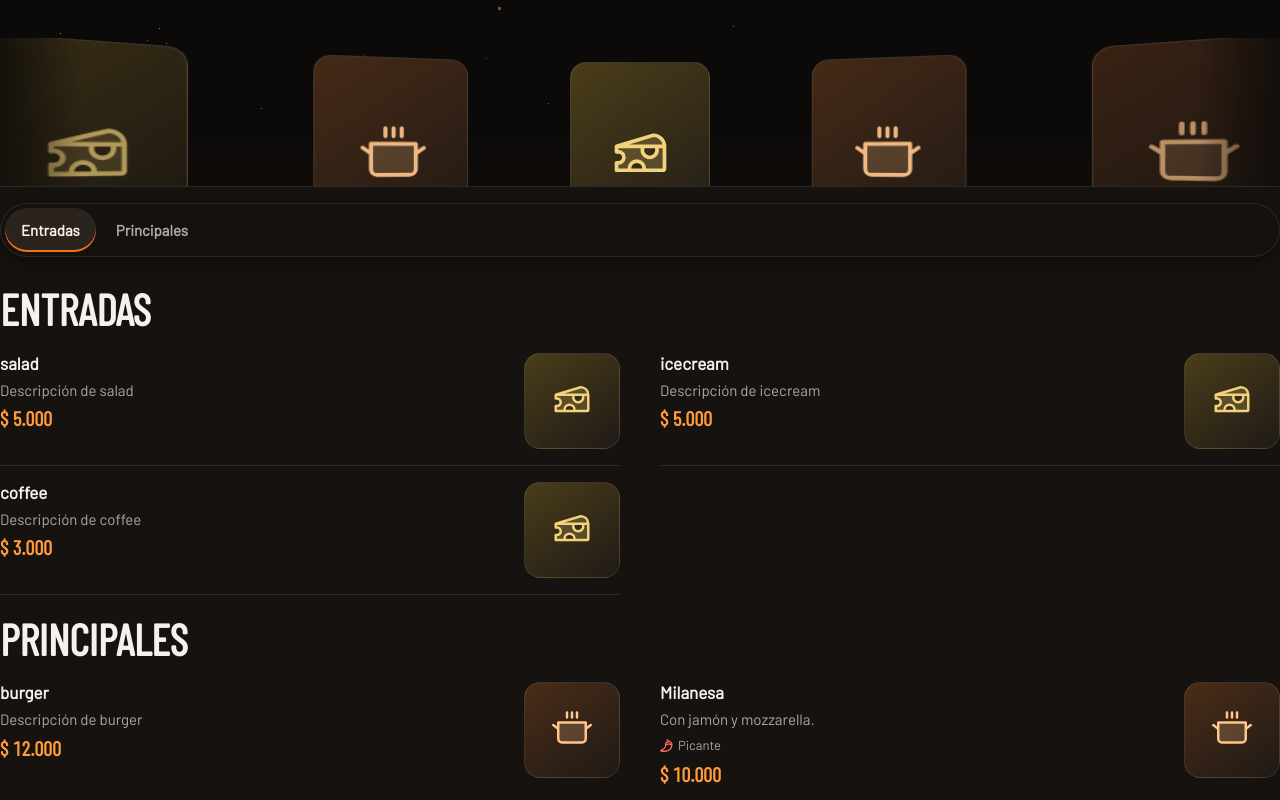
Test: DishSheet: ficha del plato (RF2, RF6, RF14-RF20, RF34, RF43) › abrir y cerrar (RF14, RF43) › cierra sin agregar nada con el botón Cerrar, y el pedido queda vacío
(page scrolled)
Expected: the navigation bar is shown, [0,203,1279,257]
Click the button "salad Descripción de salad $ 5.000" at (19, 363), box [0,337,620,465]
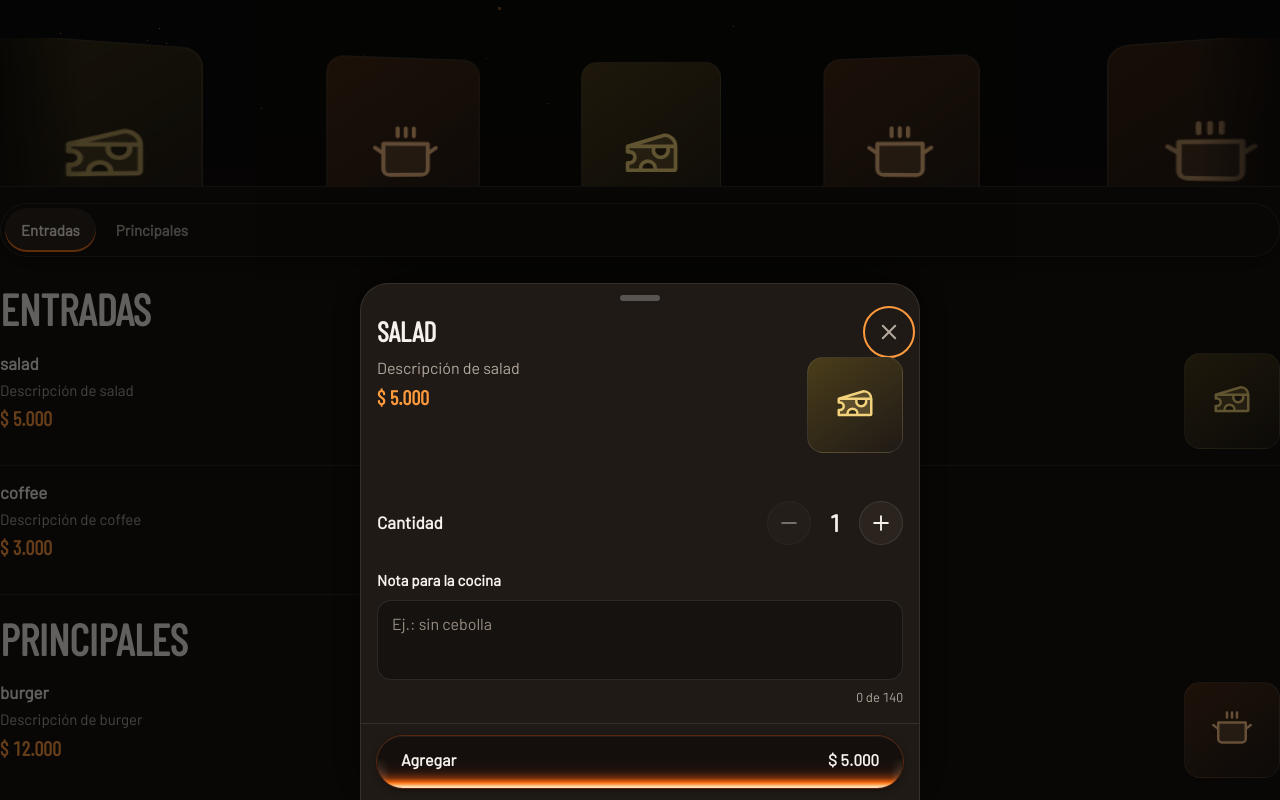
Click the button named "Cerrar" at (889, 332), box [867,310,911,354]
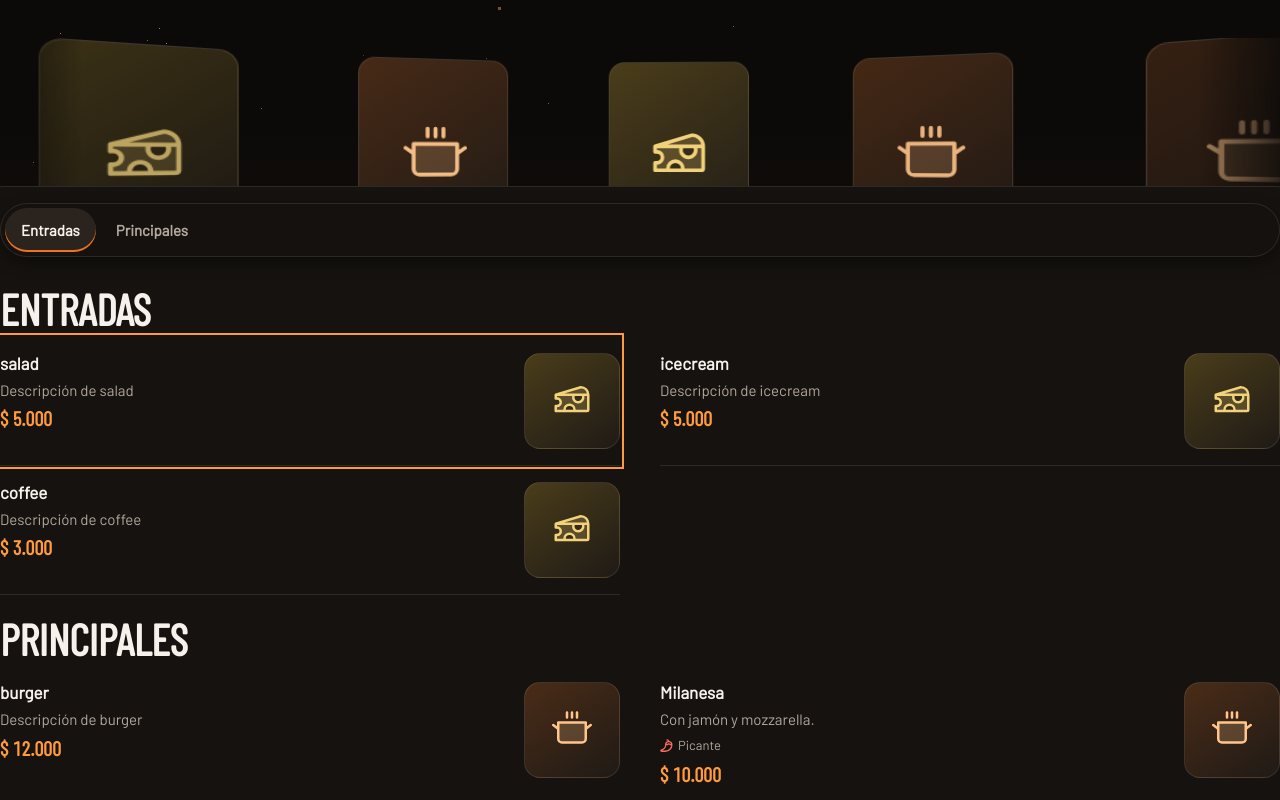
Expected: the dialog is gone
